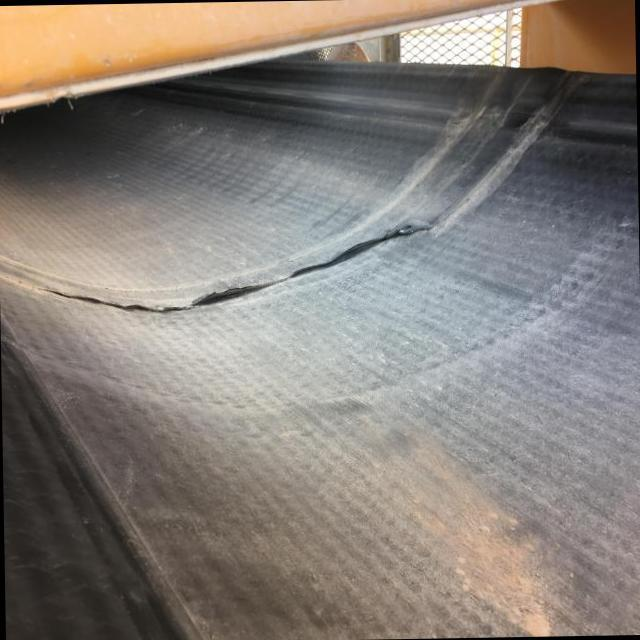Tear: (52, 186, 454, 330)
